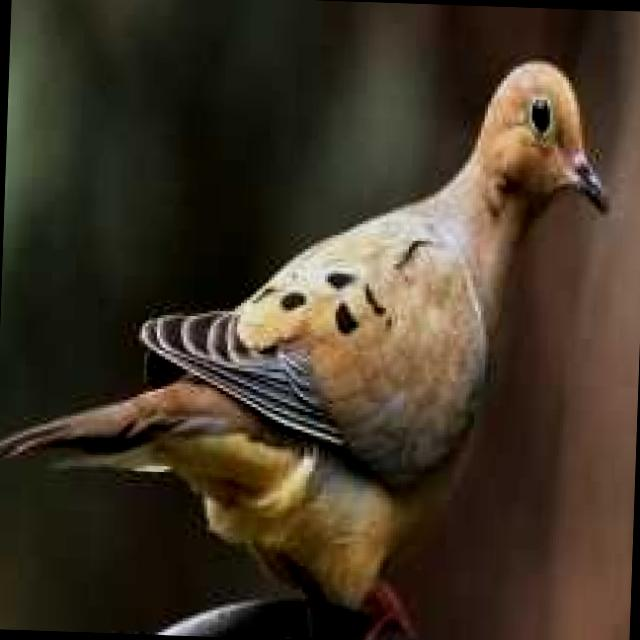bird: (0, 30, 629, 640)
